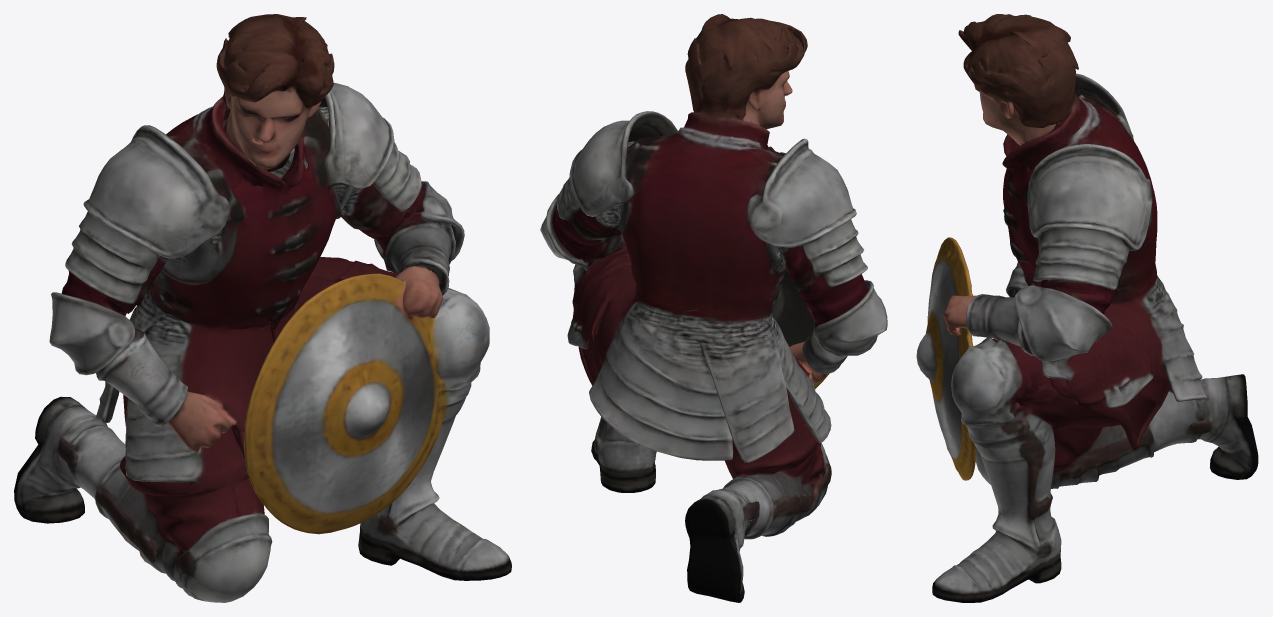
The model's file is generation_knight_2.glb.
The picture shows the model from 3 angles, left to right: view 1: azimuth 30°, elevation 25°; view 2: azimuth 150°, elevation 25°; view 3: azimuth 270°, elevation 25°; orthographic projection. The views are drawn at different scales.
Parts seen in each view (by area): view 1: geometry_0; view 2: geometry_0; view 3: geometry_0.
Part boxes in pixels (x1,y1,x2,y2): geometry_0: (14,14,511,602); geometry_0: (540,14,887,602); geometry_0: (916,14,1258,602).
Bounding box in the file's own units: 0.744 × 1 × 0.6228.
1 material, 1 textured.
